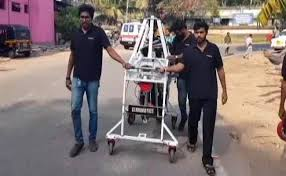human: (60, 3, 112, 160), (187, 21, 229, 175), (169, 18, 190, 125), (244, 30, 254, 58), (225, 29, 232, 56)
